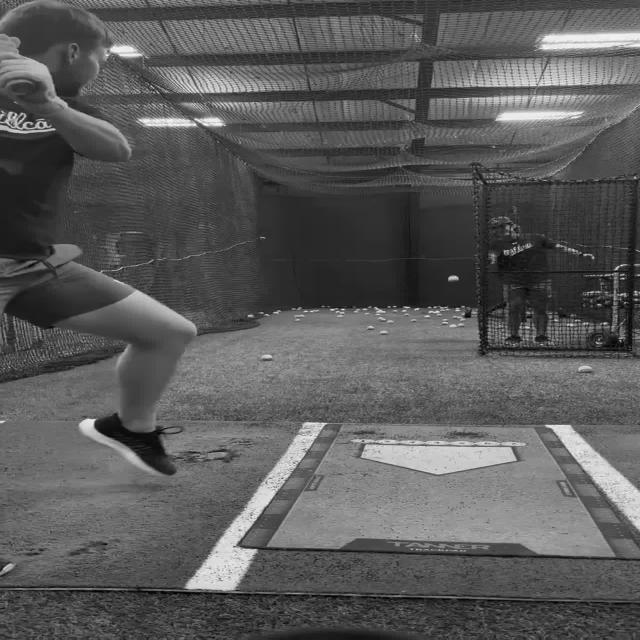base: (365, 442, 517, 474)
baseball: (576, 365, 594, 373), (447, 276, 459, 282), (260, 354, 272, 360), (378, 330, 388, 334), (366, 326, 374, 330)
shoe: (77, 412, 179, 477), (533, 335, 553, 347), (502, 335, 522, 346)
